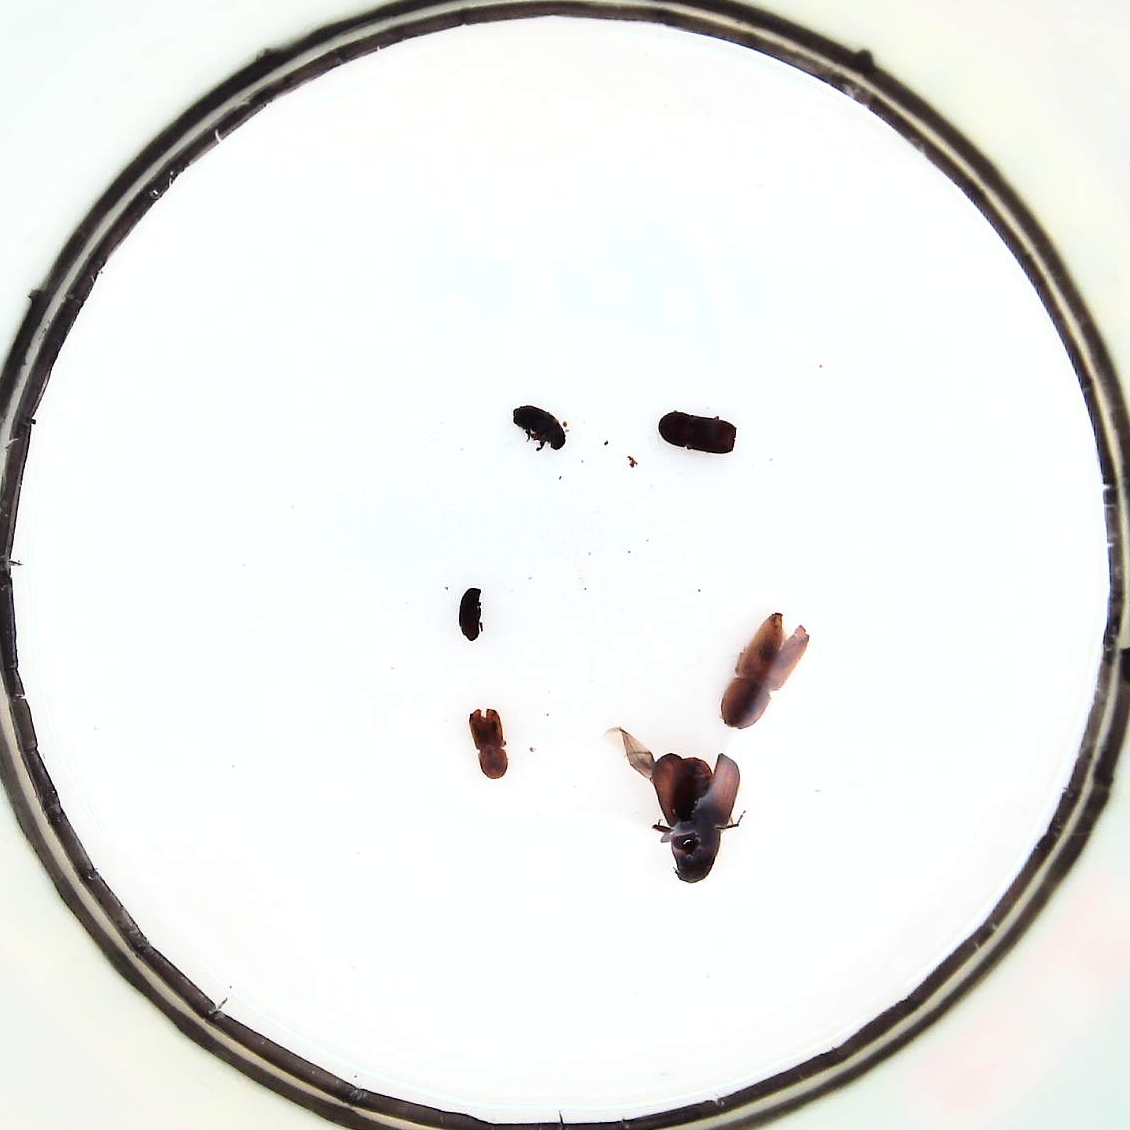Boerner: (721, 613, 809, 728)
Leconte: (652, 753, 741, 883)
acuminatus: (513, 405, 565, 451)
armandi: (469, 709, 508, 779)
coleoptera: (458, 588, 483, 640)
linnaeus: (659, 411, 737, 454)
